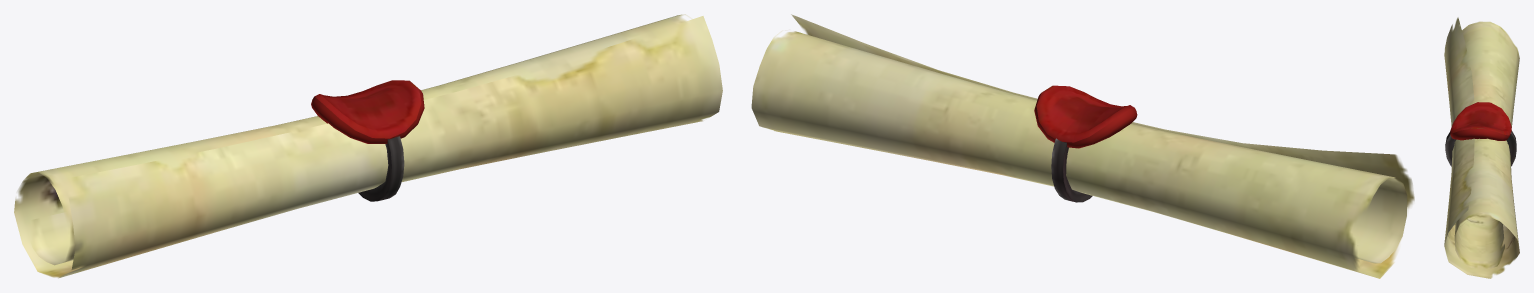
File: obj_scroll.glb
3 renders of one model, left to right at view 1: azimuth 30°, elevation 25°; view 2: azimuth 150°, elevation 25°; view 3: azimuth 270°, elevation 25°, orthographic. The views are drawn at different scales.
Visible parts, largest first — view 1: Scroll_LP_01 - Default_0; view 2: Scroll_LP_01 - Default_0; view 3: Scroll_LP_01 - Default_0.
Boxes of the visible parts, left/top/right/bottom form: Scroll_LP_01 - Default_0: left=14, top=14, right=722, bottom=278; Scroll_LP_01 - Default_0: left=751, top=14, right=1414, bottom=278; Scroll_LP_01 - Default_0: left=1444, top=17, right=1519, bottom=278.
Size of the model in its own units: 0.3 by 0.0499 by 0.0493.
Materials: 1 (1 with a texture image).
